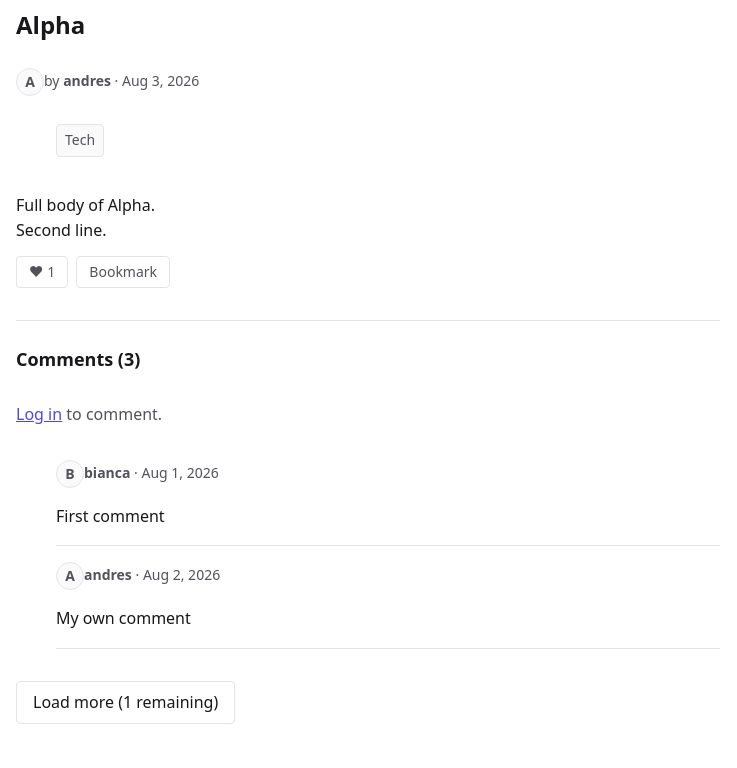
Post detail › appends the next page with Load more
(page scrolled)
Expected: the text "Third comment" is not shown
Step 1. Click the button "Load more (1 remaining)" → (126,702), box [16, 681, 235, 724]
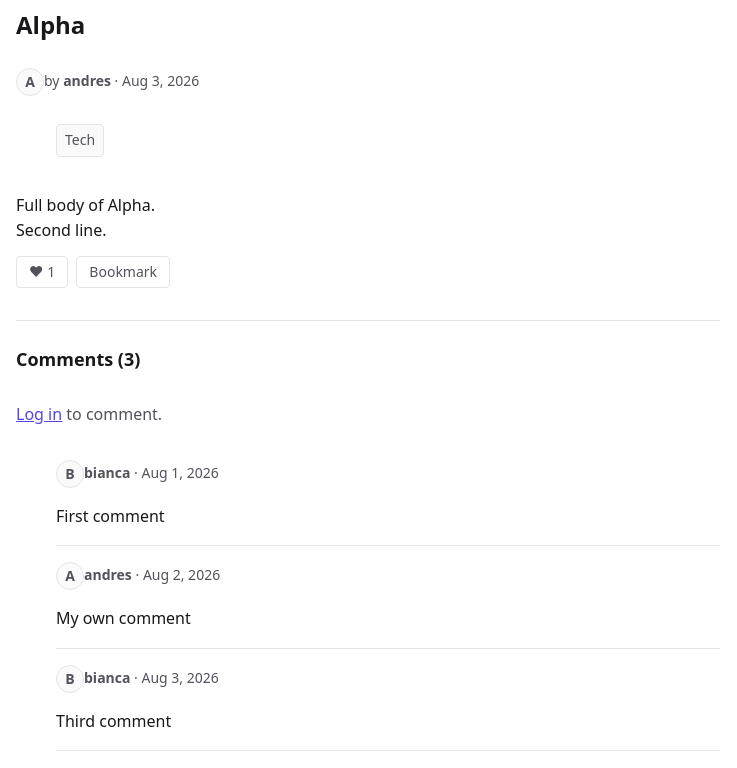
Expected: the text "Third comment" is shown, [56, 710, 171, 732]
